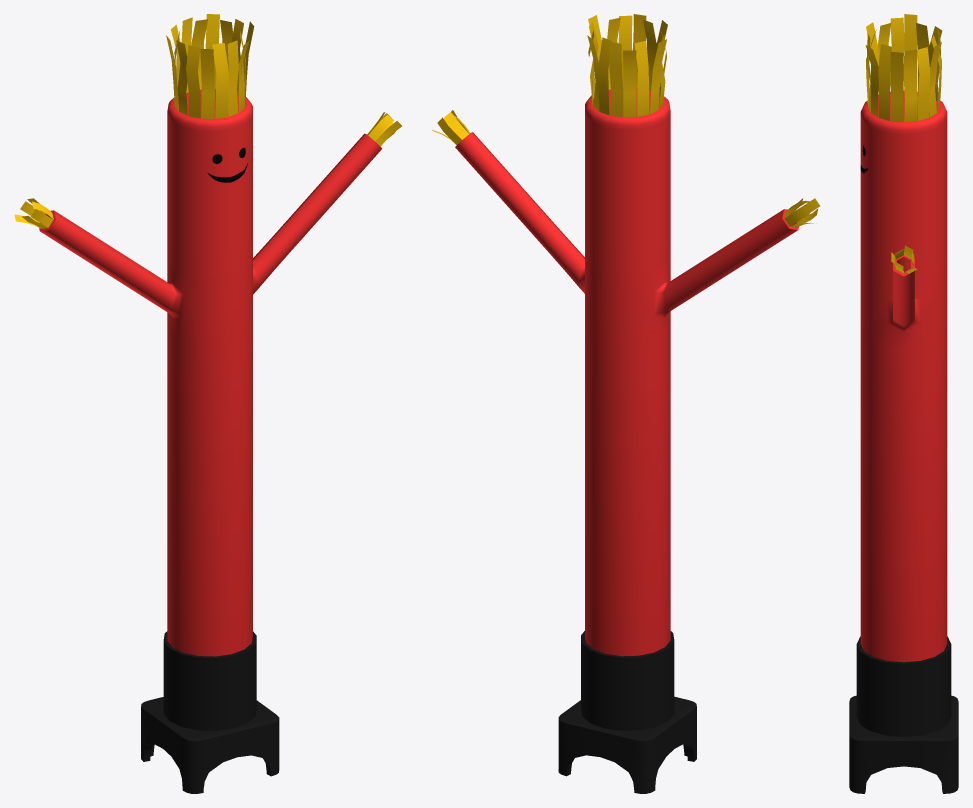
File: SkyTube_NoRig.fbx
The picture shows the model from 3 angles, left to right: view 1: azimuth 30°, elevation 25°; view 2: azimuth 150°, elevation 25°; view 3: azimuth 270°, elevation 25°; orthographic projection.
Parts seen in each view (by area): view 1: SkyTube; view 2: SkyTube; view 3: SkyTube.
Part boxes in pixels (left/top/right/bottom): SkyTube: left=14, top=14, right=401, bottom=793; SkyTube: left=432, top=14, right=820, bottom=793; SkyTube: left=849, top=14, right=958, bottom=793.
Bounding box in the file's own units: 122 × 224 × 30.
1 material, 1 textured.
